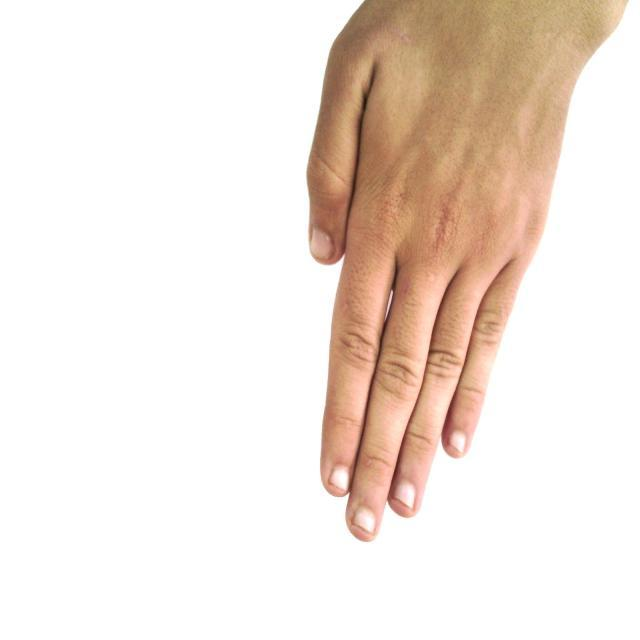Fingernail: (310, 229, 333, 260), (395, 480, 415, 509), (353, 506, 375, 532), (330, 466, 350, 491), (449, 430, 466, 453)
